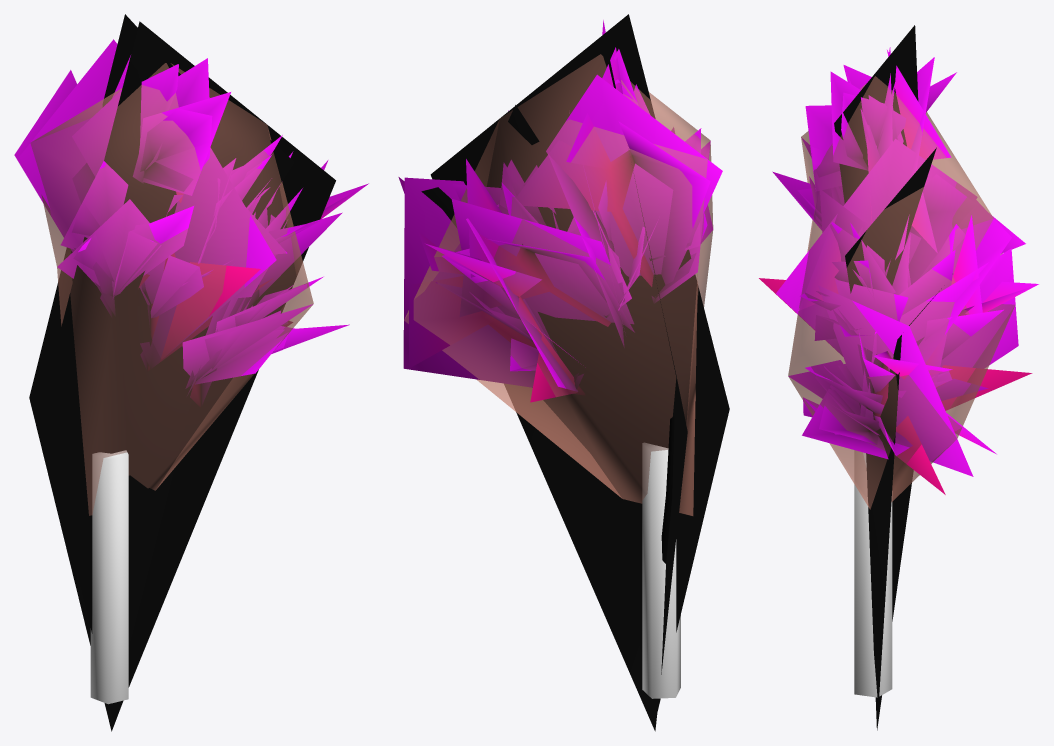
The model's file is tree_aspen_small_low.dae.
The picture shows the model from 3 angles, left to right: view 1: azimuth 30°, elevation 25°; view 2: azimuth 150°, elevation 25°; view 3: azimuth 270°, elevation 25°; orthographic projection. The views are drawn at different scales.
Parts seen in each view (by area): view 1: Colmesh_small_low-1, Birch_small_low_a200, Birch_small_low_a450; view 2: Colmesh_small_low-1, Birch_small_low_a200, Birch_small_low_a450; view 3: Colmesh_small_low-1, Birch_small_low_a450, Birch_small_low_a200.
Part boxes in pixels (<box>): Colmesh_small_low-1: <box>30,63,313,704</box>; Birch_small_low_a200: <box>19,21,349,724</box>; Birch_small_low_a450: <box>14,14,368,731</box>; Colmesh_small_low-1: <box>404,54,713,698</box>; Birch_small_low_a200: <box>403,14,729,710</box>; Birch_small_low_a450: <box>398,35,712,731</box>; Colmesh_small_low-1: <box>788,76,1014,697</box>; Birch_small_low_a450: <box>759,25,1038,730</box>; Birch_small_low_a200: <box>772,47,1018,476</box>.
Size of the model in its own units: 3.02 by 2.11 by 6.05.
